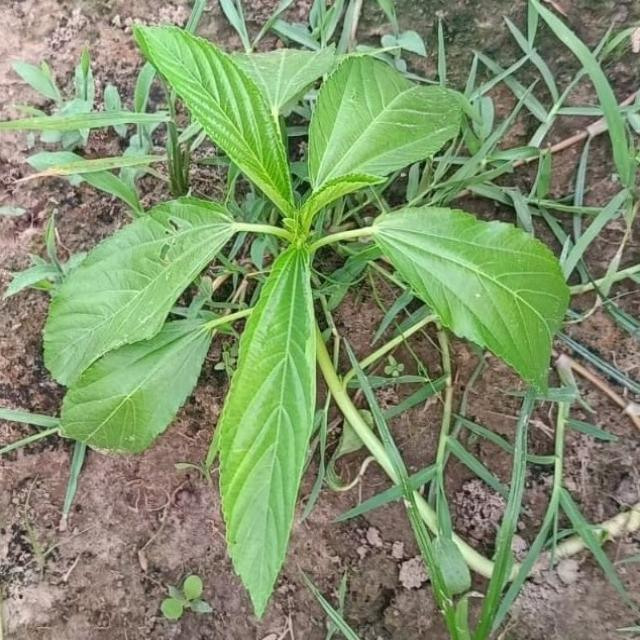plant: (45, 27, 569, 615)
